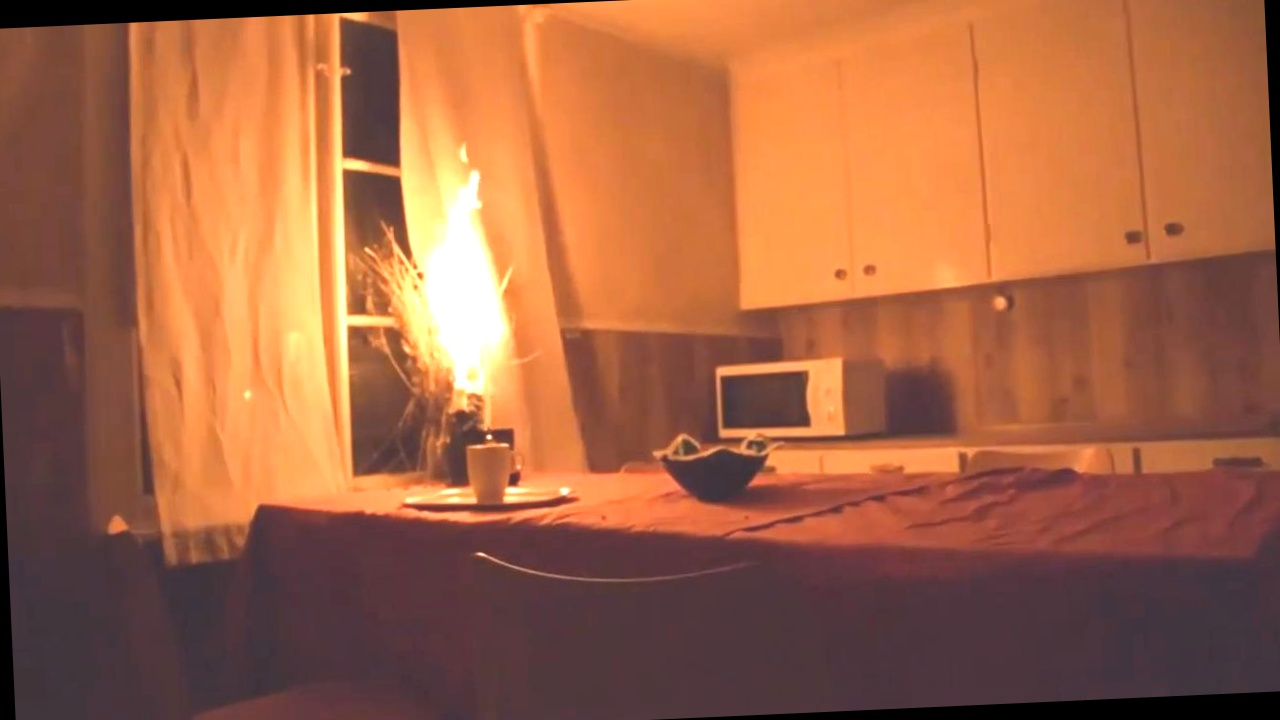fire: (392, 129, 553, 424)
